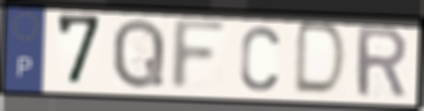7: (55, 12, 103, 90)
C: (238, 23, 282, 94)
D: (290, 21, 350, 100)
F: (167, 17, 232, 94)
Q: (109, 15, 168, 91)
R: (354, 25, 410, 100)
